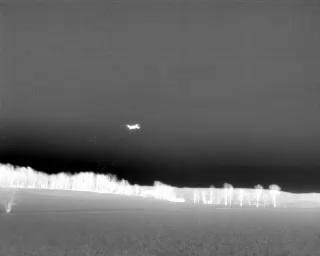DRONE: (122, 117, 145, 136)
